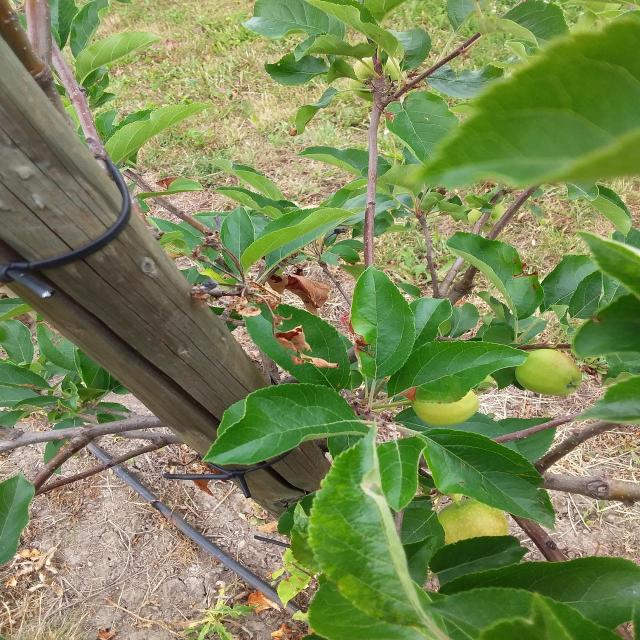-FireBlight-: (201, 252, 333, 368)
